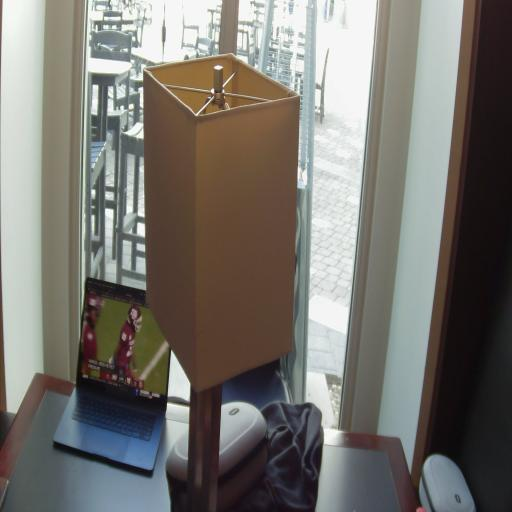lamp: (142, 52, 300, 512)
